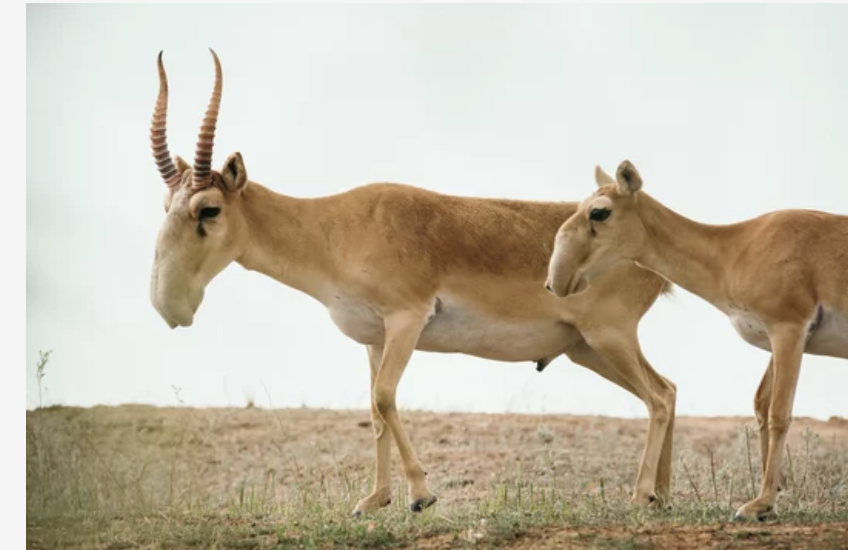saiga: (132, 44, 679, 528)
